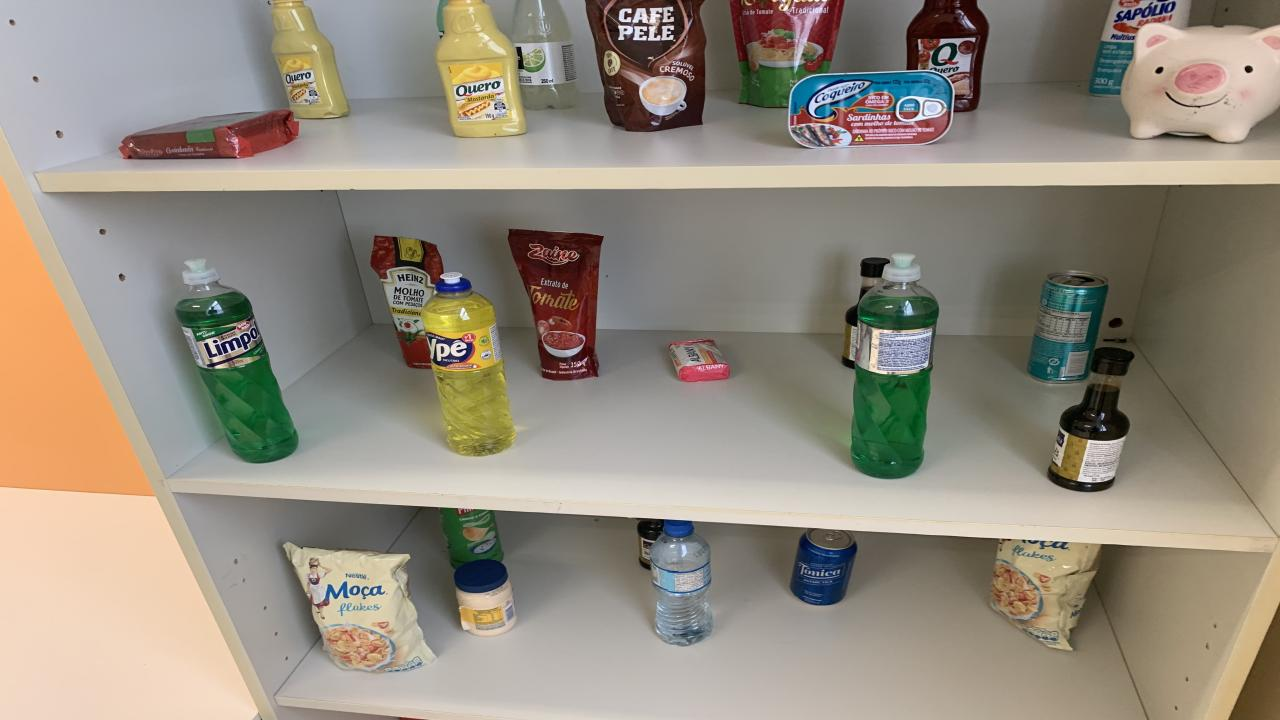Cleaner-Cleanup_Items: (1090, 0, 1190, 96)
Coffee-Pantry_Items: (585, 0, 705, 131)
Detergent-Cleanup_Items: (175, 259, 298, 463), (850, 279, 940, 478), (422, 272, 515, 456)
English_Sauce-Pantry_Items: (1048, 347, 1135, 491), (638, 519, 665, 568), (860, 257, 890, 298), (842, 304, 858, 368)
Flakes-Snacks: (282, 542, 435, 673), (990, 540, 1102, 651)
Guava-Snacks: (120, 109, 300, 159)
Ketchup-Pantry_Items: (908, 0, 990, 112)
Mayonnaise-Pantry_Items: (452, 559, 515, 636)
Mustard-Pantry_Items: (435, 0, 525, 137), (270, 0, 350, 118)
Pig_Safe-Miscellaneous: (1120, 24, 1280, 142)
Pringles-Snacks: (440, 508, 502, 568)
Soap-Cleanup_Items: (670, 339, 730, 382)
Soda-Drinks: (512, 0, 578, 109)
Tea-Drinks: (1028, 272, 1108, 382)
Tomato_Sauce-Pantry_Items: (508, 229, 602, 381), (730, 0, 845, 107), (370, 236, 442, 368)
Tonic-Drinks: (790, 529, 858, 606)
Tuna_Can-Pantry_Items: (788, 71, 952, 148)
Water_Bottle-Drinks: (650, 519, 712, 645)
